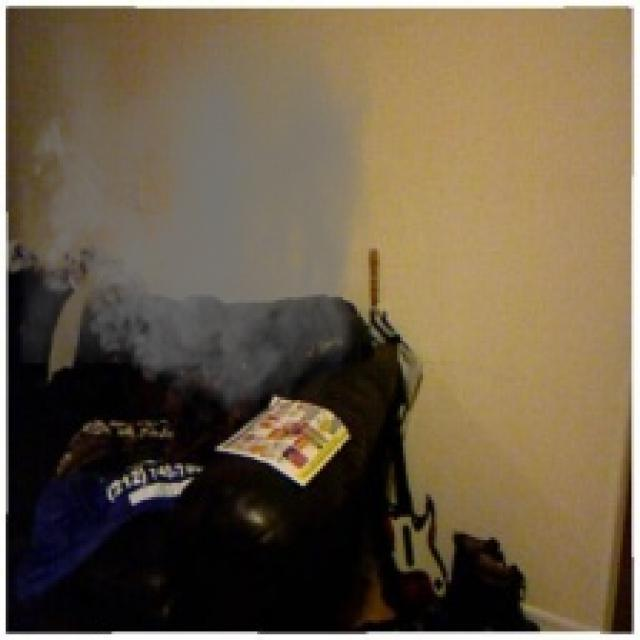Smoke: (19, 22, 374, 432)
